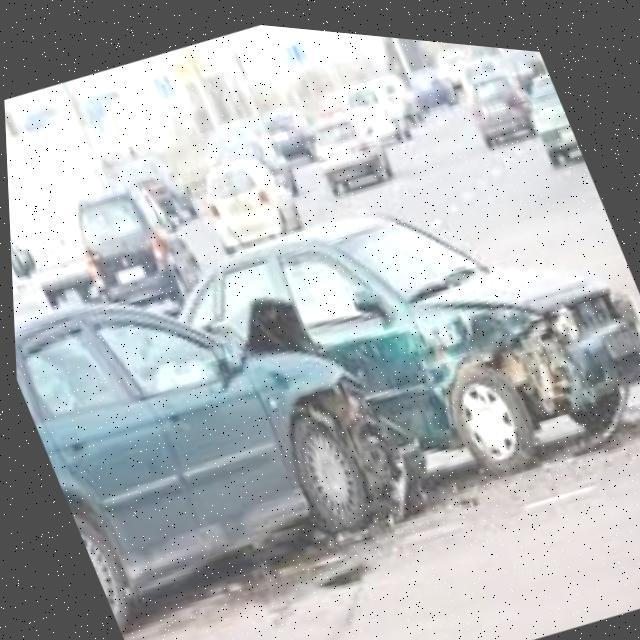Car Accident Detector - v4 Generation1 Exported: (69, 88, 640, 595)
